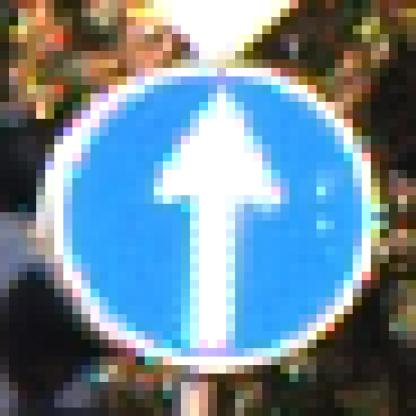AheadOnly: (46, 52, 372, 366)
